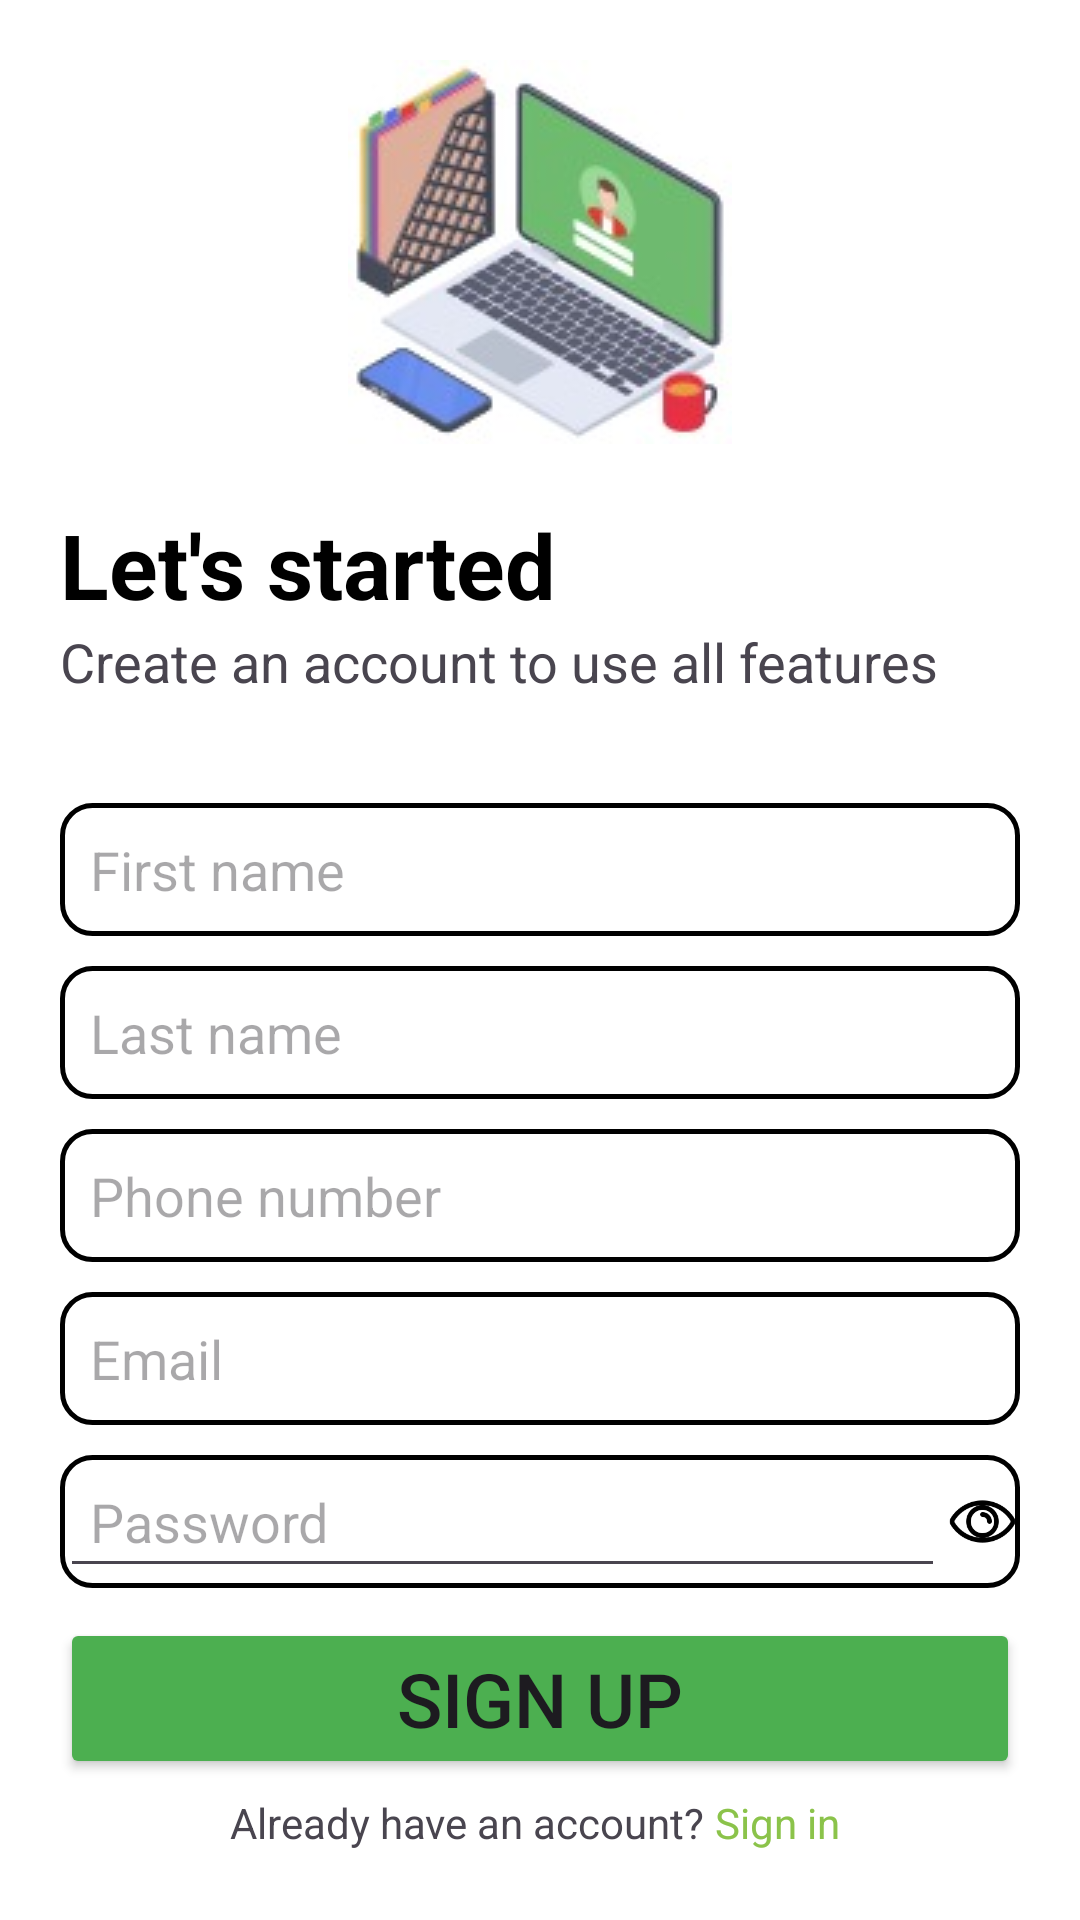

Point at icon controls on the screen. Image size 1080 x 1920, points as (x,y).
eye: (984,1521)
